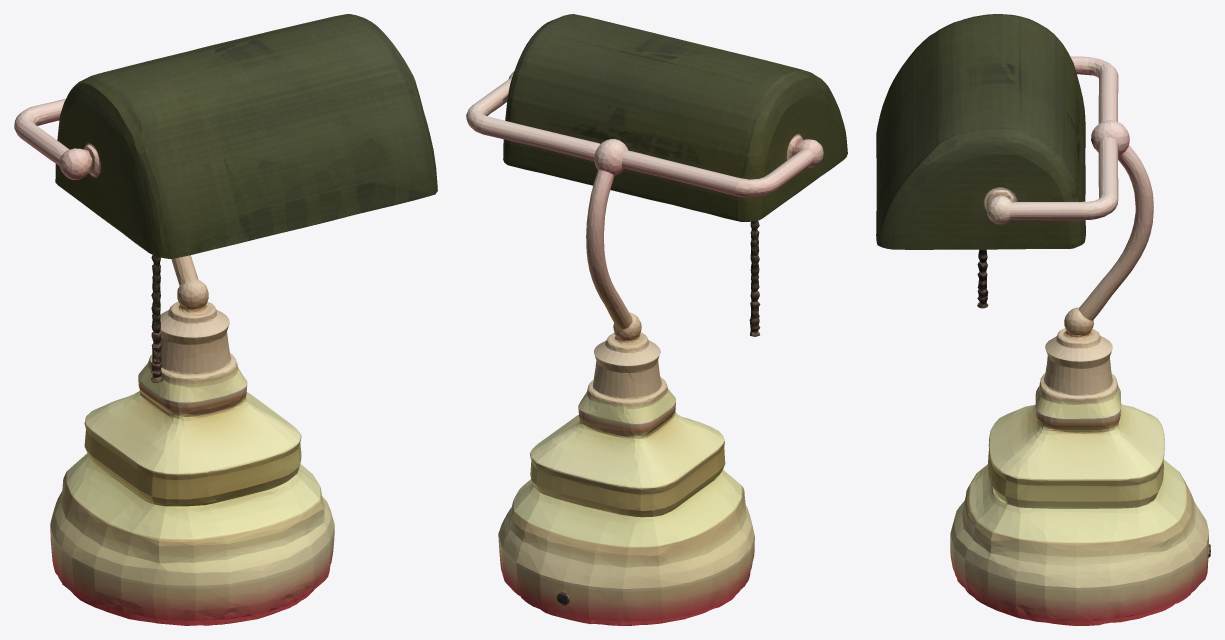
File: appearance_edited_mesh.glb
The picture shows the model from 3 angles, left to right: view 1: azimuth 30°, elevation 25°; view 2: azimuth 150°, elevation 25°; view 3: azimuth 270°, elevation 25°; orthographic projection. The views are drawn at different scales.
Parts seen in each view (by area): view 1: world; view 2: world; view 3: world.
Part boxes in pixels (left/top/right/bottom): world: left=14, top=14, right=437, bottom=625; world: left=466, top=14, right=847, bottom=625; world: left=876, top=14, right=1210, bottom=625.
Bounding box in the file's own units: 0.4949 × 0.7534 × 0.4533.
1 material, 1 textured.
